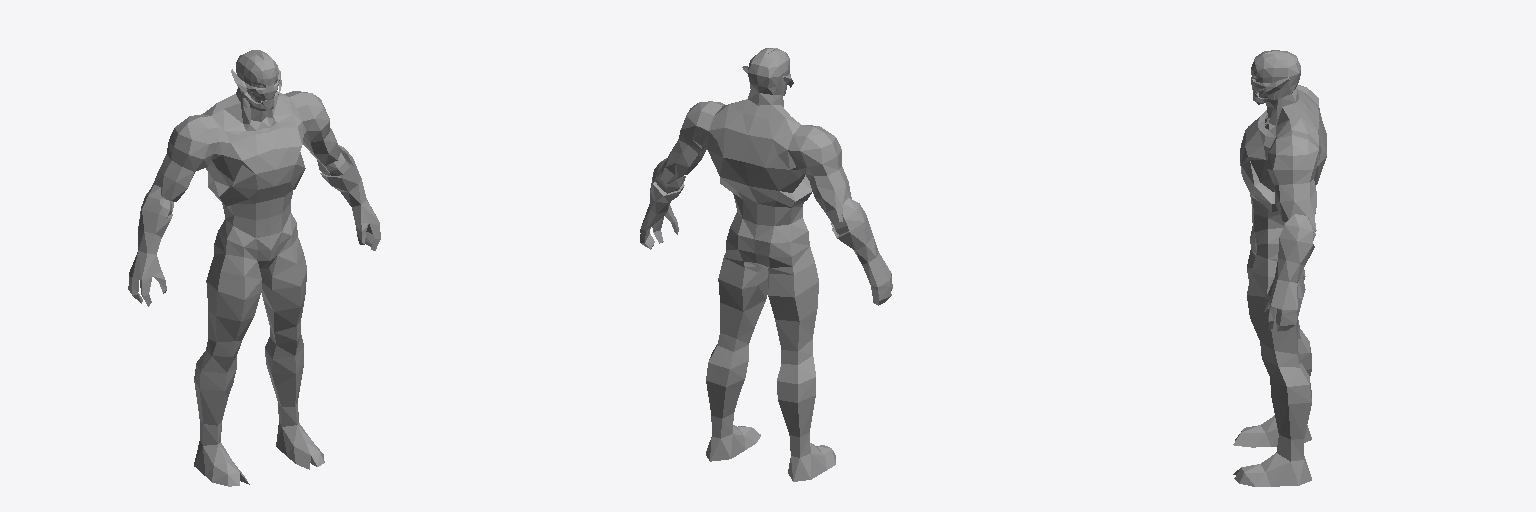
Rendered from M-FF_iOS_VILLAIN_Ultron_Prime.obj.
3 views of the same model, side by side, from view 1: azimuth 30°, elevation 25°; view 2: azimuth 150°, elevation 25°; view 3: azimuth 270°, elevation 25° (orthographic).
Size of the model in its own units: 1.34 by 2.11 by 0.443.